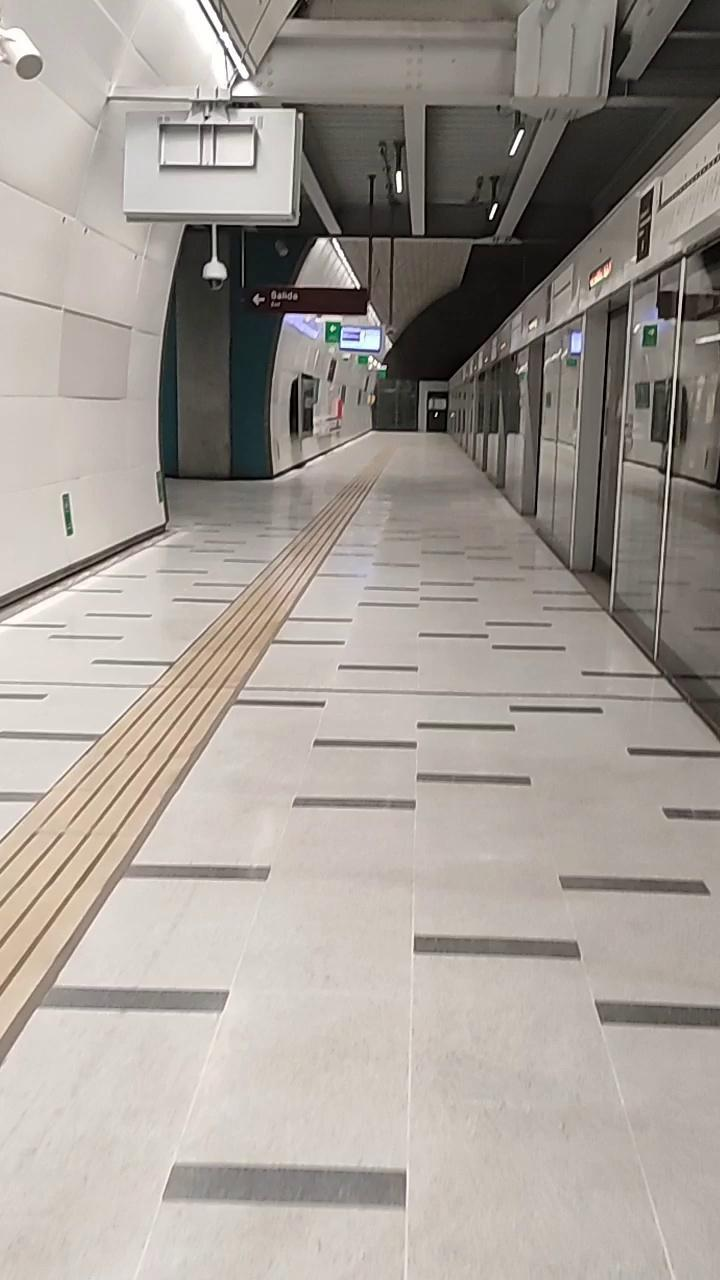left arrow: (246, 292, 272, 306)
